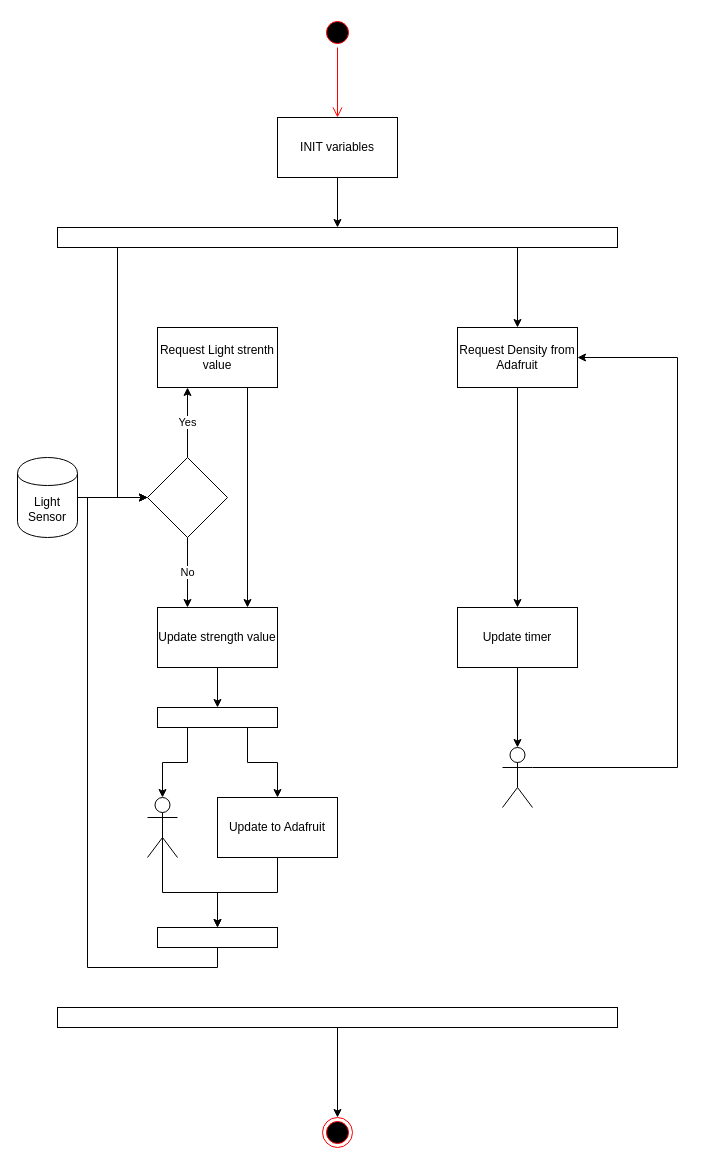
Some shapes in this 703 by 1165 pixel diagram are drawn without their labels. Here are the shapes that lost their labels. From the top down, the centre of each, then its label:
At [187,497]: "Manual Control?".
At [517,777]: "Timer".
At [162,827]: "Light Strength Control".
